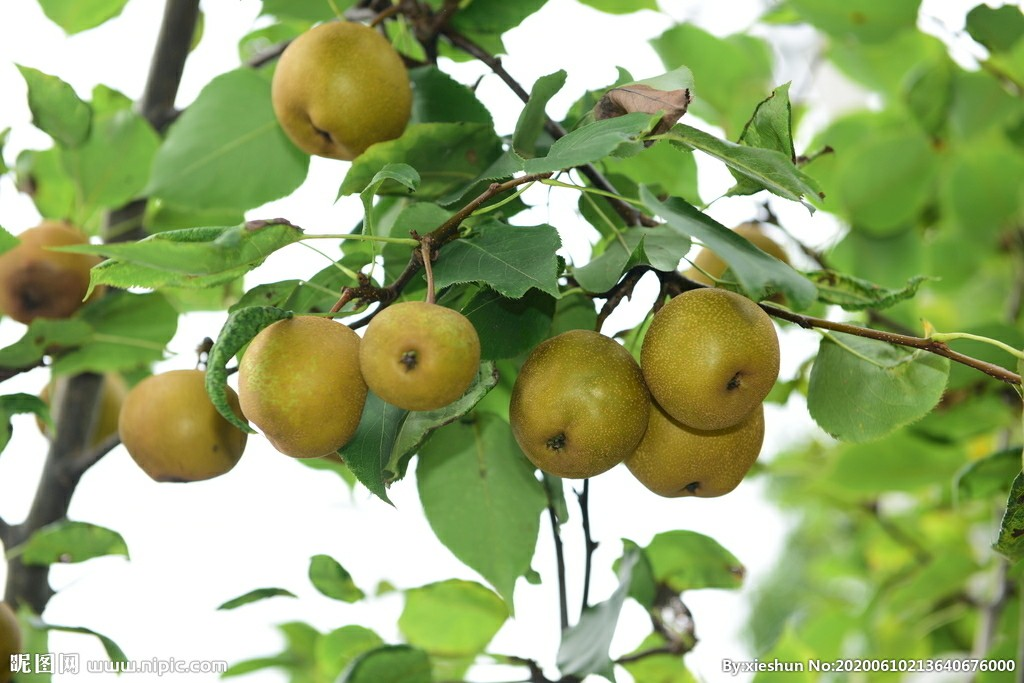pear: (618, 360, 765, 501), (642, 286, 781, 433), (508, 332, 646, 479), (272, 18, 409, 158), (239, 315, 365, 457), (118, 370, 246, 482), (360, 301, 484, 407), (1, 220, 105, 325)
